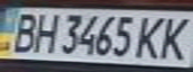3: (57, 10, 81, 55)
4: (78, 11, 100, 56)
5: (112, 12, 139, 59)
6: (93, 12, 118, 57)
B: (3, 10, 42, 54)
H: (30, 9, 60, 54)
K: (133, 12, 172, 61), (154, 14, 193, 62)
